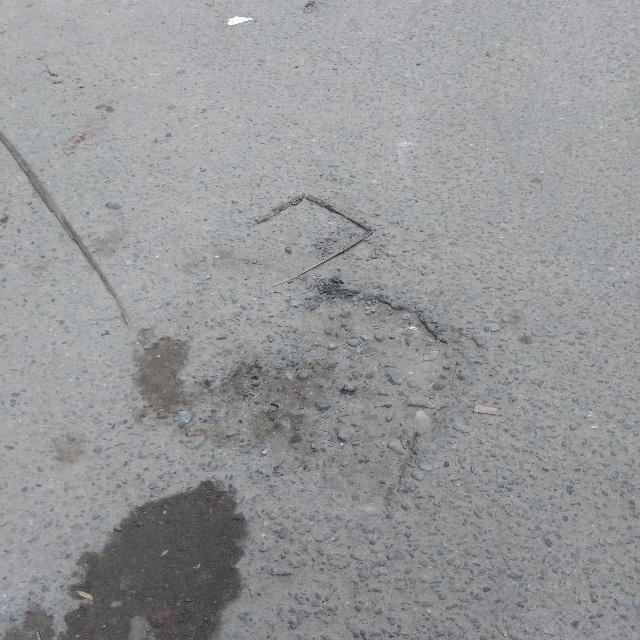Pothole: (259, 302, 423, 481)
Surface Erosion: (45, 87, 583, 527)
